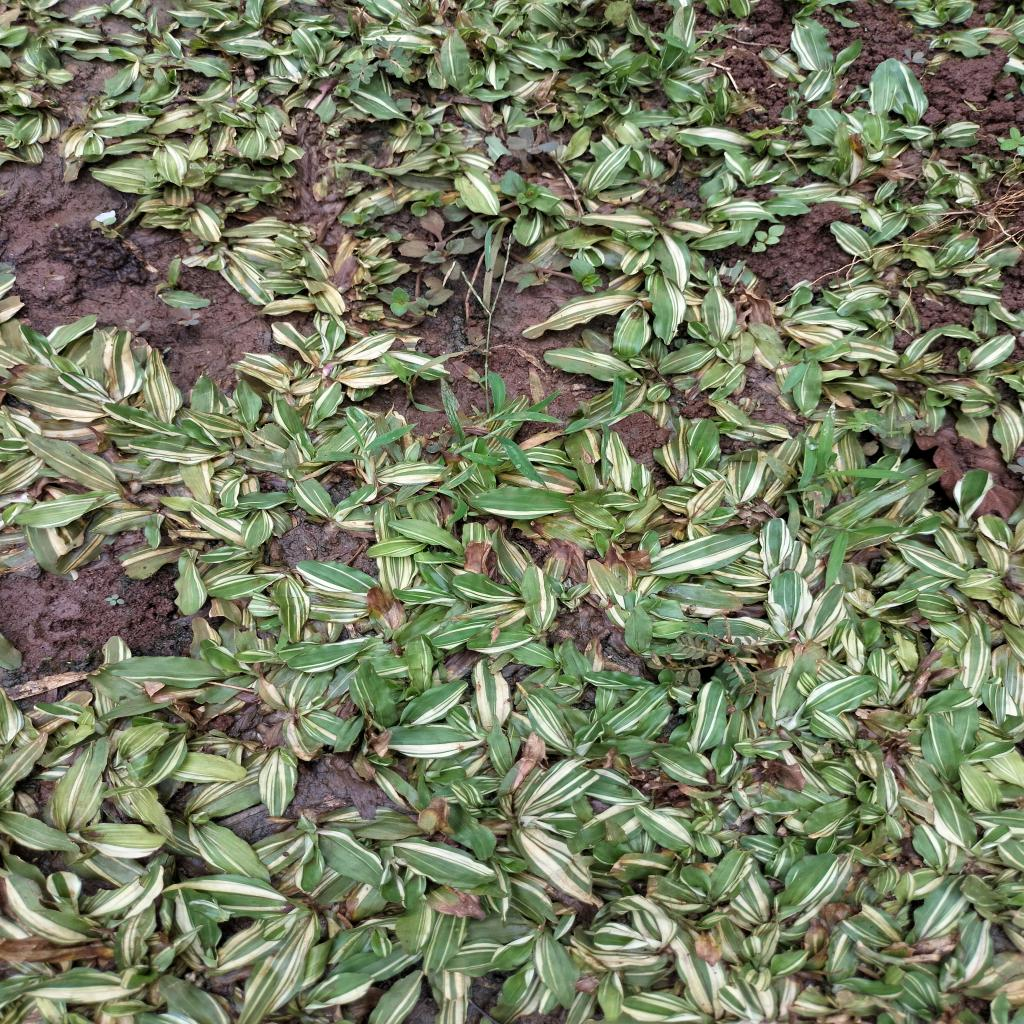buah daun: (666, 608, 790, 700), (344, 33, 418, 91), (505, 121, 564, 164)
rambat atas: (437, 375, 567, 492), (786, 401, 916, 509), (800, 514, 915, 600), (313, 412, 422, 482), (392, 462, 482, 528), (566, 374, 654, 440), (473, 370, 566, 425), (652, 22, 744, 70)
ungu tunggang: (339, 166, 617, 328)
